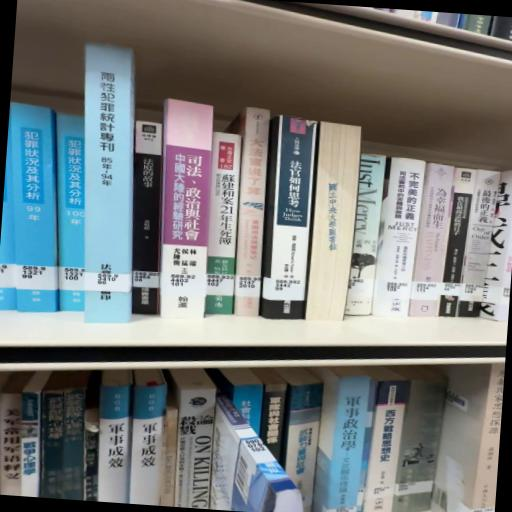backward: (306, 123, 362, 322)
book: (68, 46, 151, 327), (1, 102, 73, 317), (155, 102, 224, 324), (264, 118, 324, 326)
